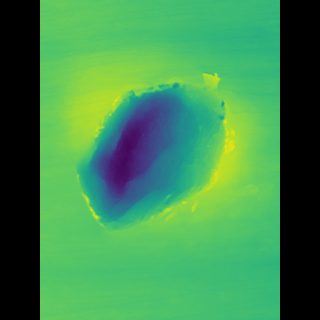Loch: (92, 65, 242, 238)
